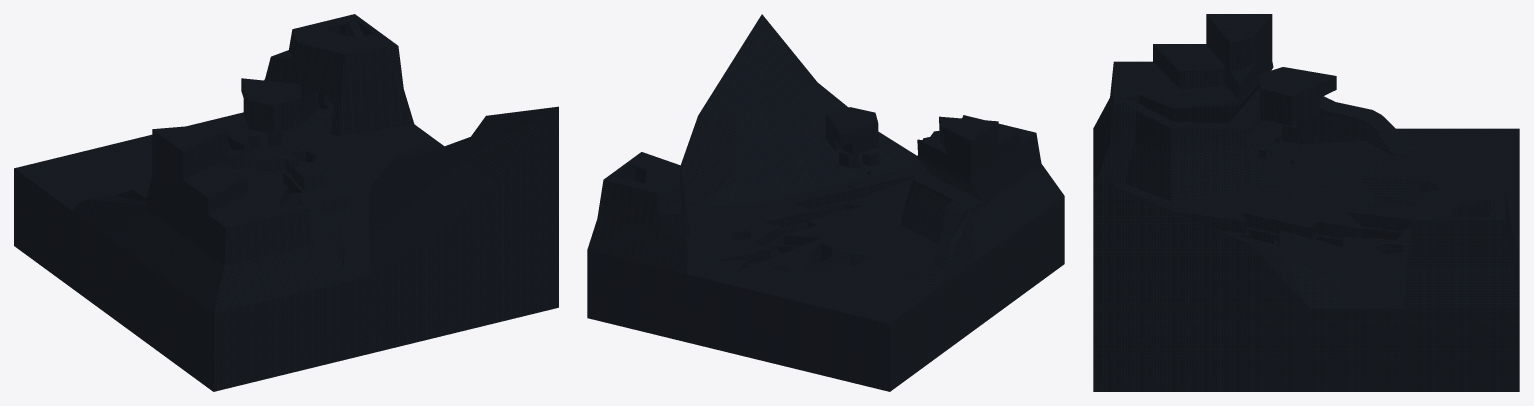
File: grid_terrain.glb
3 renders of one model, left to right at view 1: azimuth 30°, elevation 25°; view 2: azimuth 150°, elevation 25°; view 3: azimuth 270°, elevation 25°, orthographic. The views are drawn at different scales.
Visible parts, largest first — view 1: Plane.001; view 2: Plane.001; view 3: Plane.001.
Boxes of the visible parts, x1=… form: Plane.001: x1=14, y1=14, x2=558, y2=391; Plane.001: x1=587, y1=14, x2=1064, y2=391; Plane.001: x1=1093, y1=14, x2=1519, y2=391.
Size of the model in its own units: 201 by 111 by 200.
Materials: 1 (1 with a texture image).
